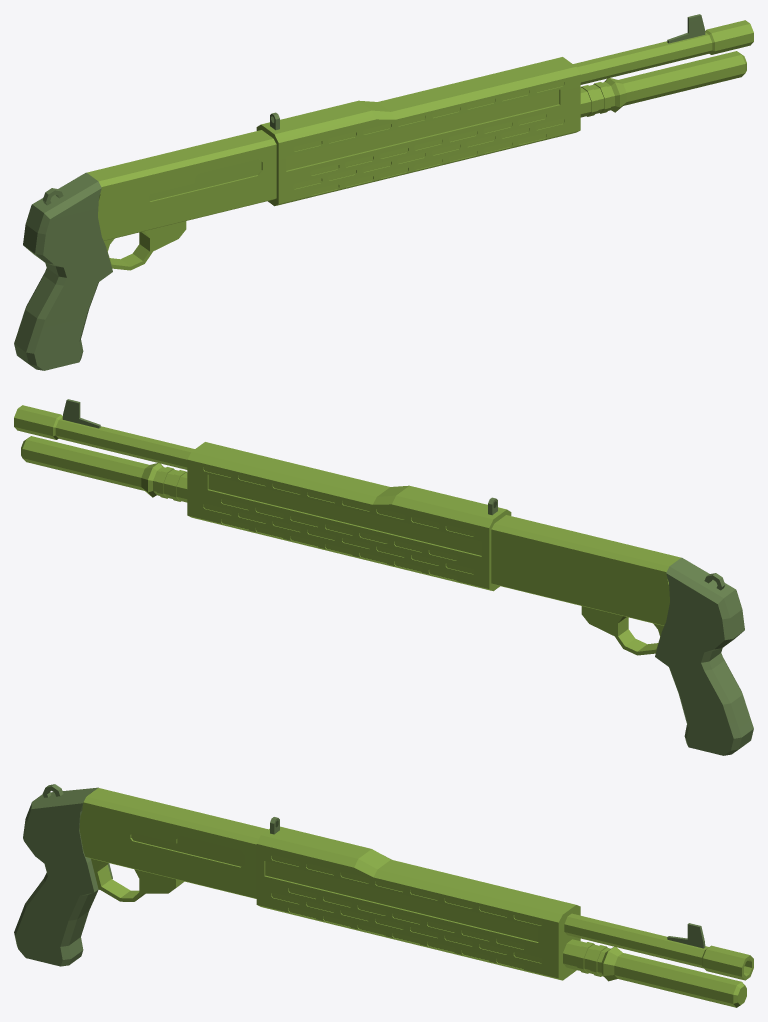
The model's file is Shotgun5_03.fbx.
3 renders of one model, top to bottom at view 1: azimuth 30°, elevation 25°; view 2: azimuth 150°, elevation 25°; view 3: azimuth 330°, elevation 25°, orthographic.
Visible parts, largest first — view 1: Shotgun5_03; view 2: Shotgun5_03; view 3: Shotgun5_03.
Part boxes in pixels (box(x1,y1,x2,y2)): Shotgun5_03: box(14, 14, 753, 370); Shotgun5_03: box(14, 399, 753, 755); Shotgun5_03: box(14, 784, 753, 1007).
Bounding box in the file's own units: 0.8358 × 0.2102 × 0.0437.
